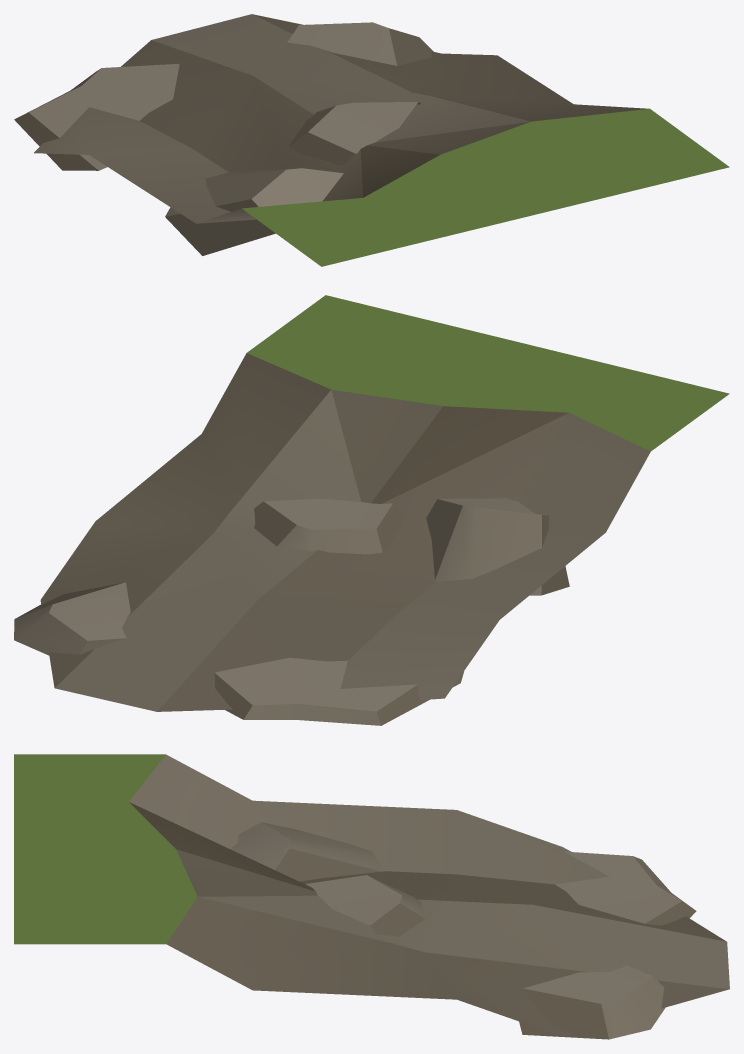
File: SF_Env_River_Slope_02.fbx
3 renders of one model, top to bottom at view 1: azimuth 30°, elevation 25°; view 2: azimuth 150°, elevation 25°; view 3: azimuth 270°, elevation 25°, orthographic. The views are drawn at different scales.
Visible parts, largest first — view 1: SF_Env_River_Slope_02; view 2: SF_Env_River_Slope_02; view 3: SF_Env_River_Slope_02.
Boxes of the visible parts, <box> form: SF_Env_River_Slope_02: <box>14,14,729,266</box>; SF_Env_River_Slope_02: <box>14,295,729,725</box>; SF_Env_River_Slope_02: <box>14,754,729,1039</box>.
Size of the model in its own units: 10.05 by 2.33 by 15.95.
